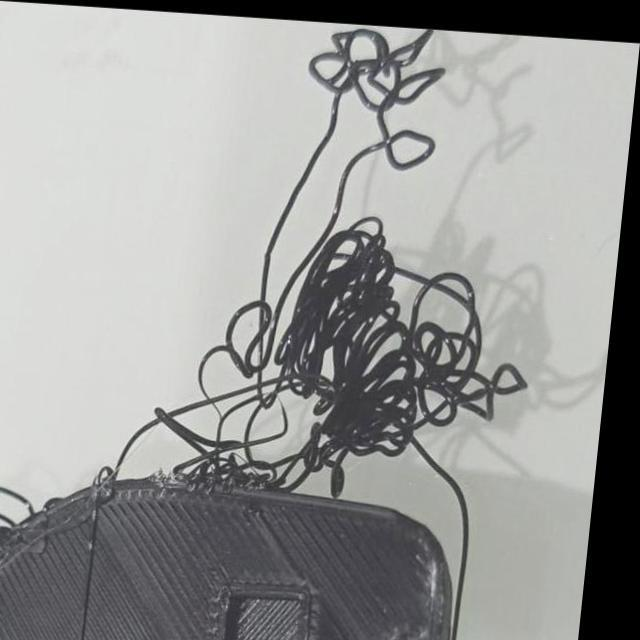spaghetti: (275, 229, 528, 475), (310, 18, 460, 166)
